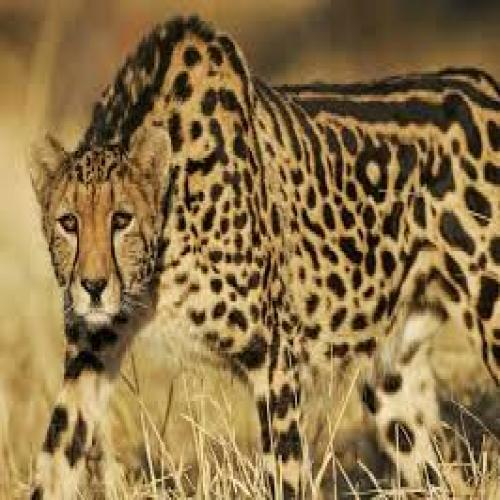cheetah-endangered: (24, 15, 500, 426)
